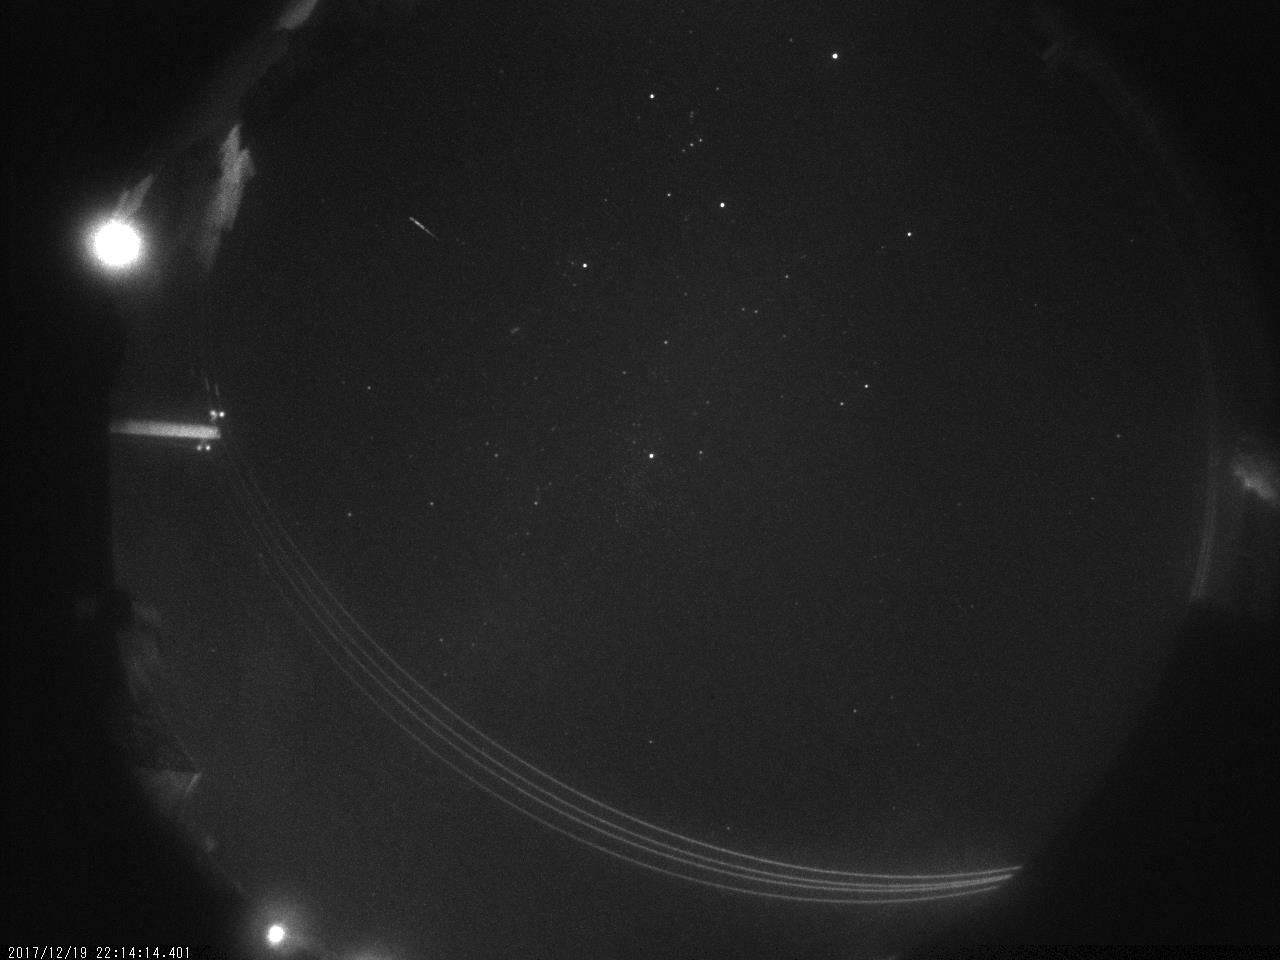meteor: (397, 202, 447, 250)
